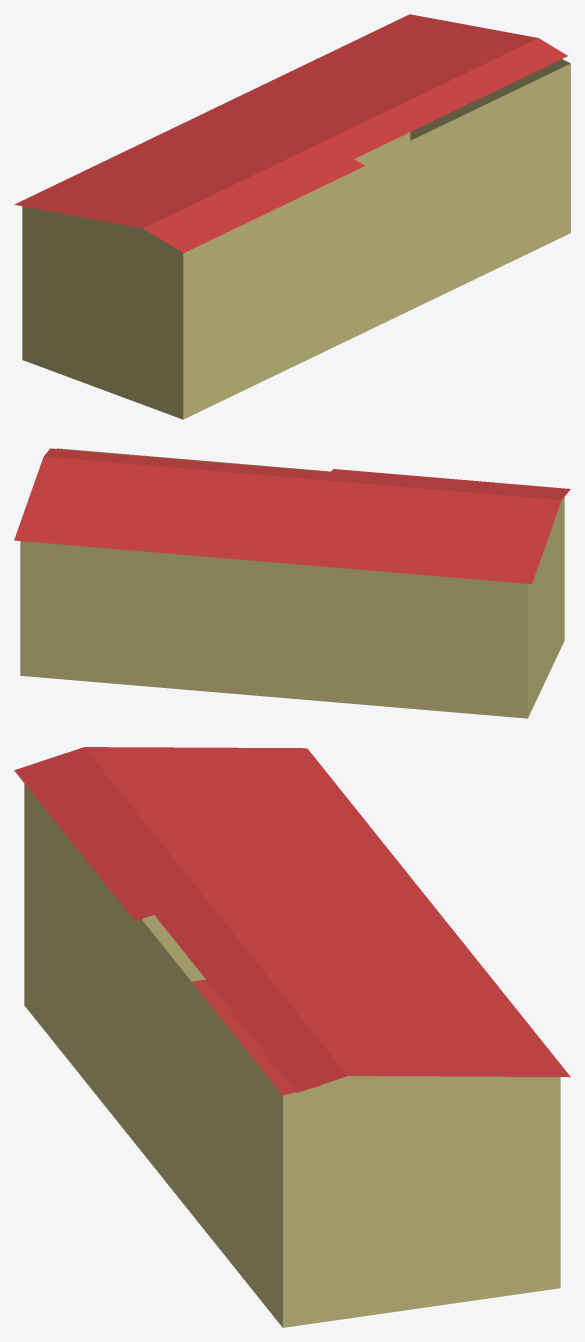
The picture shows the model from 3 angles, top to bottom: view 1: azimuth 30°, elevation 25°; view 2: azimuth 150°, elevation 25°; view 3: azimuth 270°, elevation 25°; orthographic projection. The views are drawn at different scales.
Size of the model in its own units: 26.42 by 16.89 by 8.24.
